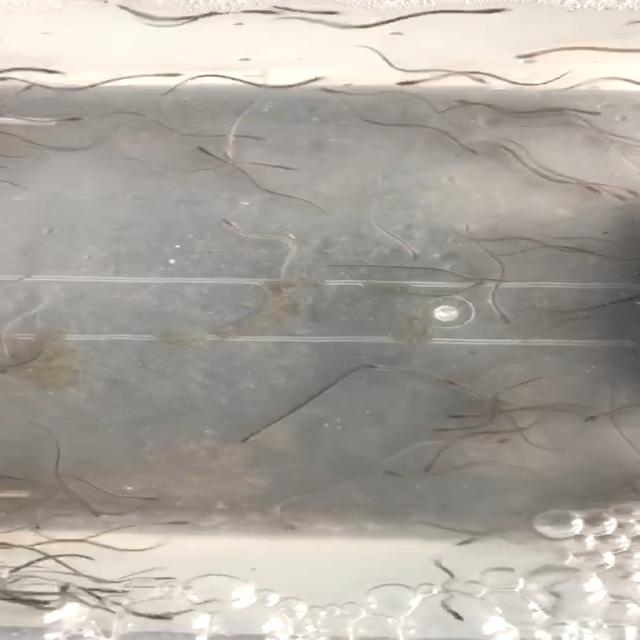active_glass_eel: (512, 48, 578, 73), (270, 518, 318, 540), (444, 612, 499, 631), (478, 3, 545, 18), (286, 70, 338, 88), (10, 518, 62, 536), (305, 83, 347, 103), (441, 408, 487, 426), (146, 66, 194, 82), (380, 465, 418, 485), (397, 74, 451, 88), (300, 7, 349, 22), (54, 109, 92, 128), (38, 582, 88, 596), (126, 490, 160, 510), (38, 66, 80, 82), (609, 177, 640, 198), (232, 130, 268, 148), (579, 106, 613, 125), (223, 432, 257, 451), (492, 309, 518, 333), (441, 377, 480, 393), (581, 412, 612, 432), (426, 424, 470, 438), (417, 461, 453, 478), (464, 71, 492, 92), (206, 214, 238, 232), (233, 8, 275, 20), (69, 506, 105, 520), (159, 518, 195, 532), (606, 190, 630, 210), (493, 430, 517, 450), (452, 534, 482, 550), (276, 158, 310, 172), (460, 138, 486, 156), (216, 150, 249, 164), (142, 611, 188, 621), (566, 182, 601, 195), (18, 82, 52, 94), (354, 358, 388, 370), (400, 248, 428, 262), (190, 146, 222, 158), (492, 276, 524, 288), (450, 94, 472, 110), (132, 544, 176, 552), (460, 278, 482, 290), (1, 350, 20, 360), (0, 567, 29, 573)
